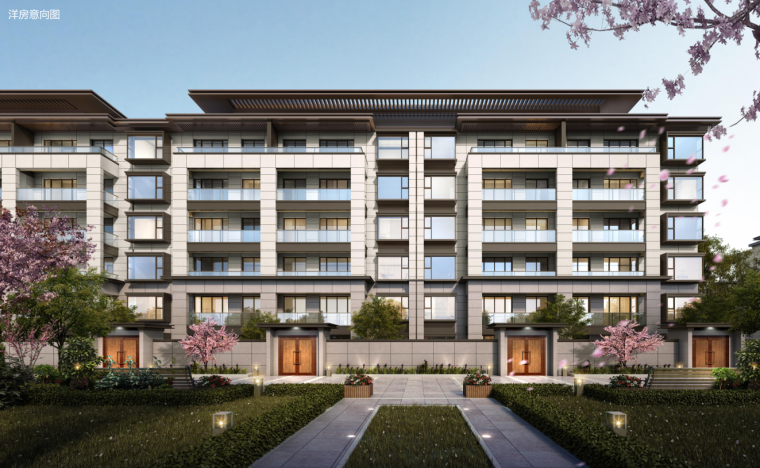buildings: (47, 85, 753, 322)
